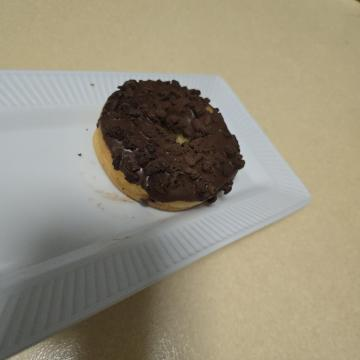doughnut: (73, 110, 224, 283)
